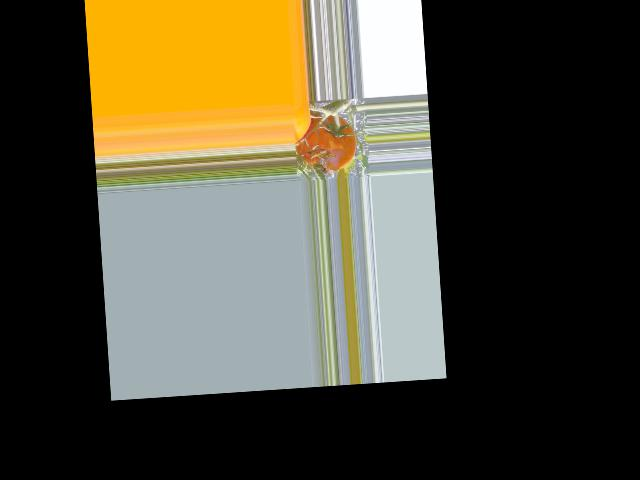tomato: (294, 113, 358, 174)
